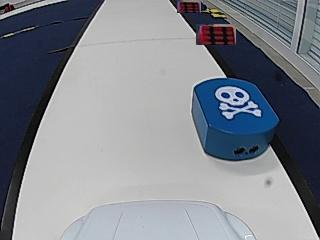danger: (217, 88, 258, 119)
